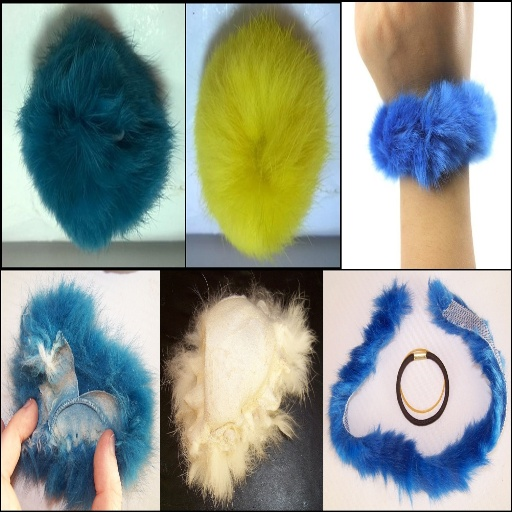hand: (0, 396, 121, 510), (354, 0, 474, 97)
